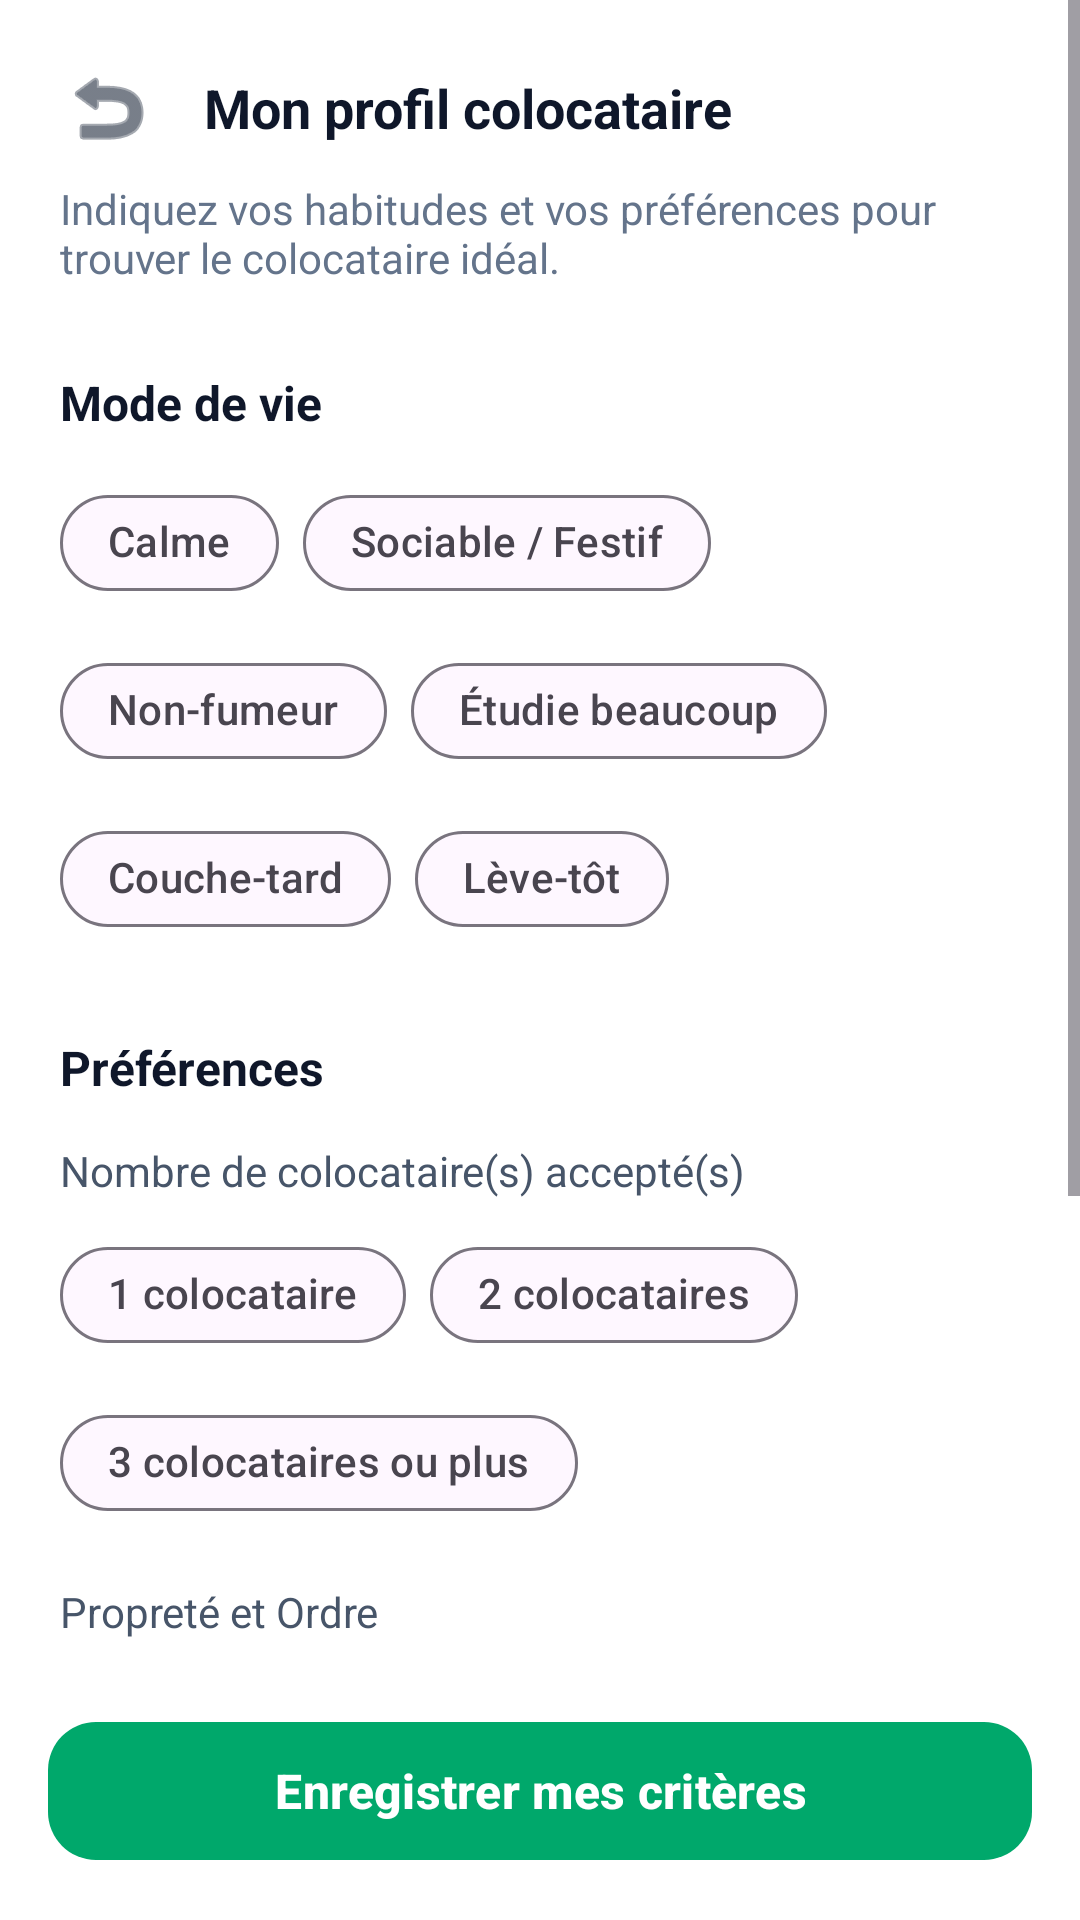

Locate icon controls on the screen. Image size 1080*1920, boxes as (x1=x1, y1=y1, x2=x2, y2=y2).
Retour: (x1=75, y1=77, x2=144, y2=140)
